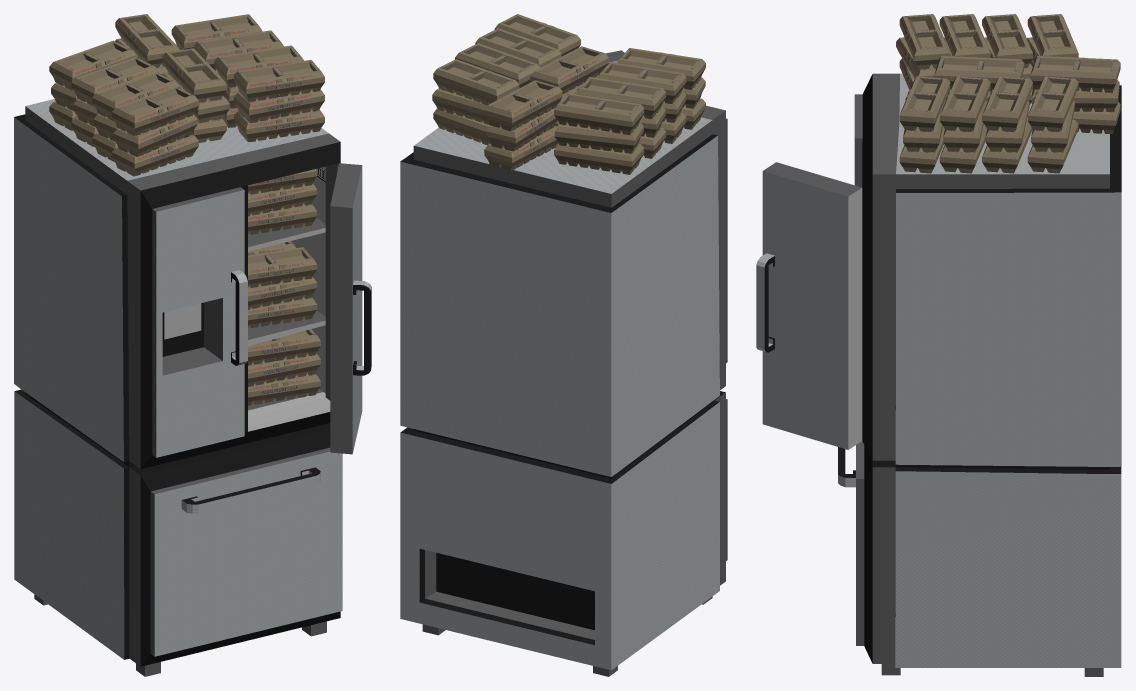
Rendered from Egg Psycho Fridge.fbx.
The picture shows the model from 3 angles, left to right: view 1: azimuth 30°, elevation 25°; view 2: azimuth 150°, elevation 25°; view 3: azimuth 270°, elevation 25°; orthographic projection. The views are drawn at different scales.
Parts seen in each view (by area): view 1: Cube; view 2: Cube; view 3: Cube.
Part boxes in pixels (x1=…): Cube: x1=14, y1=14, x2=371, y2=676; Cube: x1=400, y1=14, x2=727, y2=676; Cube: x1=756, y1=14, x2=1121, y2=676.
Bounding box in the file's own units: 215 × 529 × 308.
